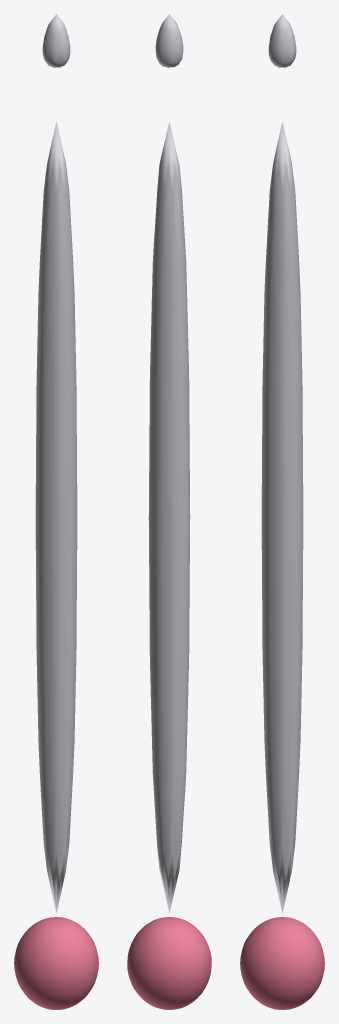
File: knitting_needle.glb
The picture shows the model from 3 angles, left to right: view 1: azimuth 90°, elevation 25°; view 2: azimuth 150°, elevation 25°; view 3: azimuth 270°, elevation 25°; orthographic projection.
Parts seen in each view (by area): view 1: knitting_needle; view 2: knitting_needle; view 3: knitting_needle.
Boxes of the visible parts, x1,y1,x2,y2 form: knitting_needle: (14, 14, 98, 1009); knitting_needle: (127, 14, 211, 1009); knitting_needle: (240, 14, 324, 1009).
Size of the model in its own units: 0.0862 by 1.11 by 0.0862.
